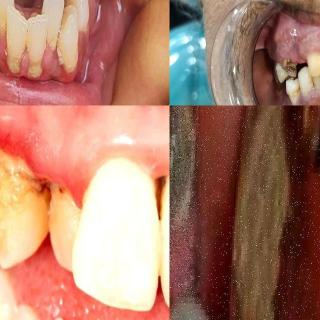Gum Swelling: (0, 106, 170, 207)
calculus: (0, 143, 42, 255), (43, 175, 80, 267), (144, 161, 170, 223), (58, 45, 78, 80), (5, 50, 22, 78), (302, 76, 318, 96), (28, 59, 42, 80)
cavities: (169, 106, 221, 272), (276, 62, 298, 82)
maligned: (35, 174, 87, 278), (40, 0, 62, 58), (0, 0, 16, 31)
stains: (312, 53, 320, 77)
